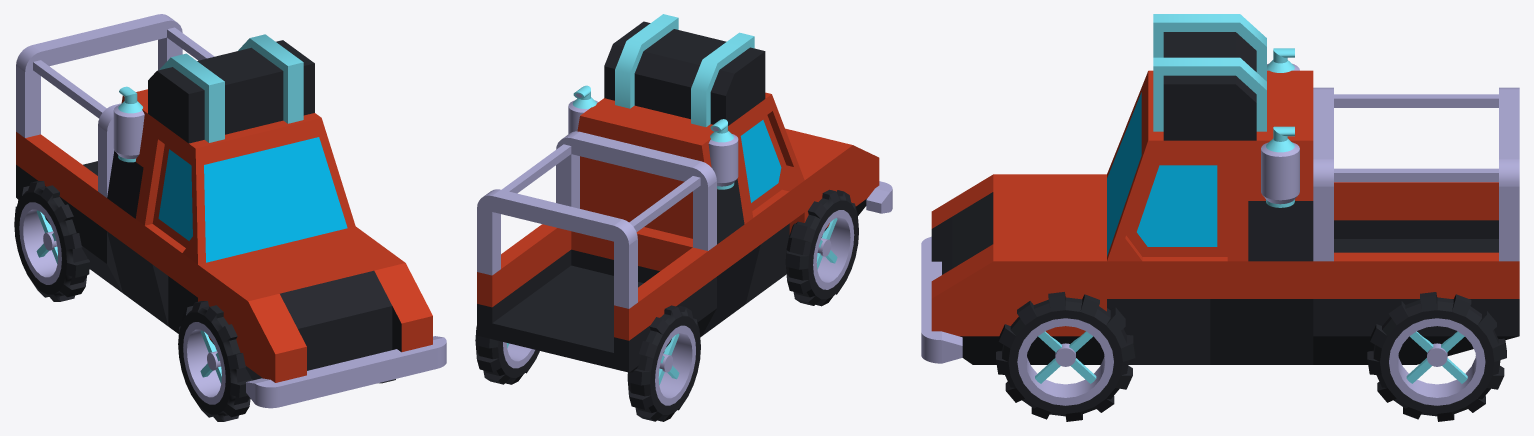
File: bcar.fbx
3 renders of one model, left to right at view 1: azimuth 30°, elevation 25°; view 2: azimuth 150°, elevation 25°; view 3: azimuth 270°, elevation 25°, orthographic. The views are drawn at different scales.
Visible parts, largest first — view 1: body_topVan, body_frontTank, detail_luggage, wheel_cycleDirt (×2), detail_rollbarLarge, body_sports, body_backBed, bumper, detail_exhaustVertical; view 2: body_backBed, body_topVan, detail_rollbarLarge, wheel_cycleDirt (×3), detail_luggage, body_sports, body_frontTank, detail_exhaustVertical (×2), bumper; view 3: body_backBed, body_topVan, body_frontTank, wheel_cycleDirt (×2), body_sports, detail_luggage, detail_rollbarLarge, detail_exhaustVertical (×2), bumper.
Boxes of the visible parts, x1,y1,x2,y2 form: body_topVan: (107,89,355,264); body_frontTank: (198,226,432,382); detail_luggage: (148,34,314,143); wheel_cycleDirt (×2): (14,181,252,421); detail_rollbarLarge: (16,14,214,197); body_sports: (107,198,197,333); body_backBed: (16,132,122,292); bumper: (246,336,446,408); detail_exhaustVertical: (113,86,144,162); body_backBed: (477,224,716,372); body_topVan: (577,92,804,244); detail_rollbarLarge: (477,131,716,308); wheel_cycleDirt (×3): (475,189,858,421); detail_luggage: (604,14,765,126); body_sports: (702,181,804,335); body_frontTank: (785,128,879,237); detail_exhaustVertical (×2): (568,85,738,189); bumper: (866,181,892,213); body_backBed: (1313,182,1519,364); body_topVan: (1107,70,1313,261); body_frontTank: (931,174,1106,364); wheel_cycleDirt (×2): (996,292,1506,421); body_sports: (1107,257,1313,364); detail_luggage: (1153,14,1266,140); detail_rollbarLarge: (1313,87,1519,261); detail_exhaustVertical (×2): (1261,48,1299,207); bumper: (921,236,962,363).
Size of the model in its own units: 12 by 17.88 by 29.
